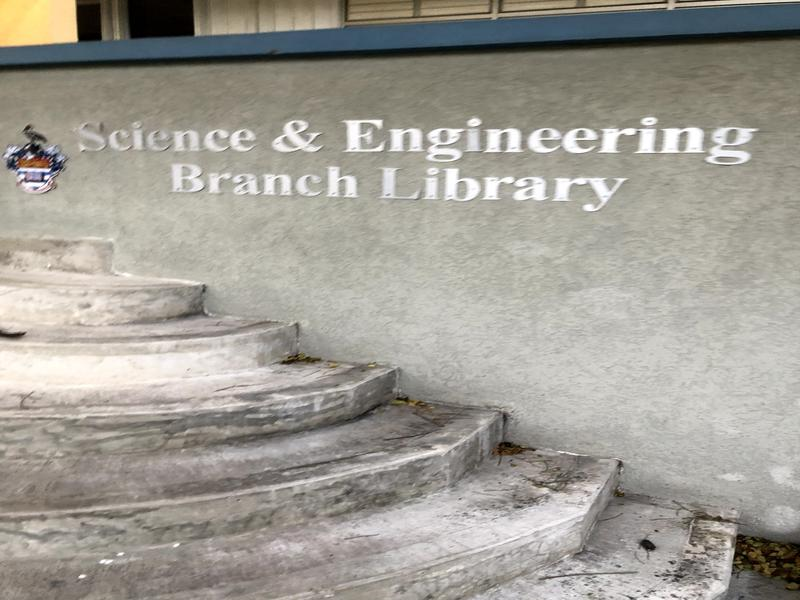18.0053644_-76.7493880_librarysign: (61, 106, 778, 216)
